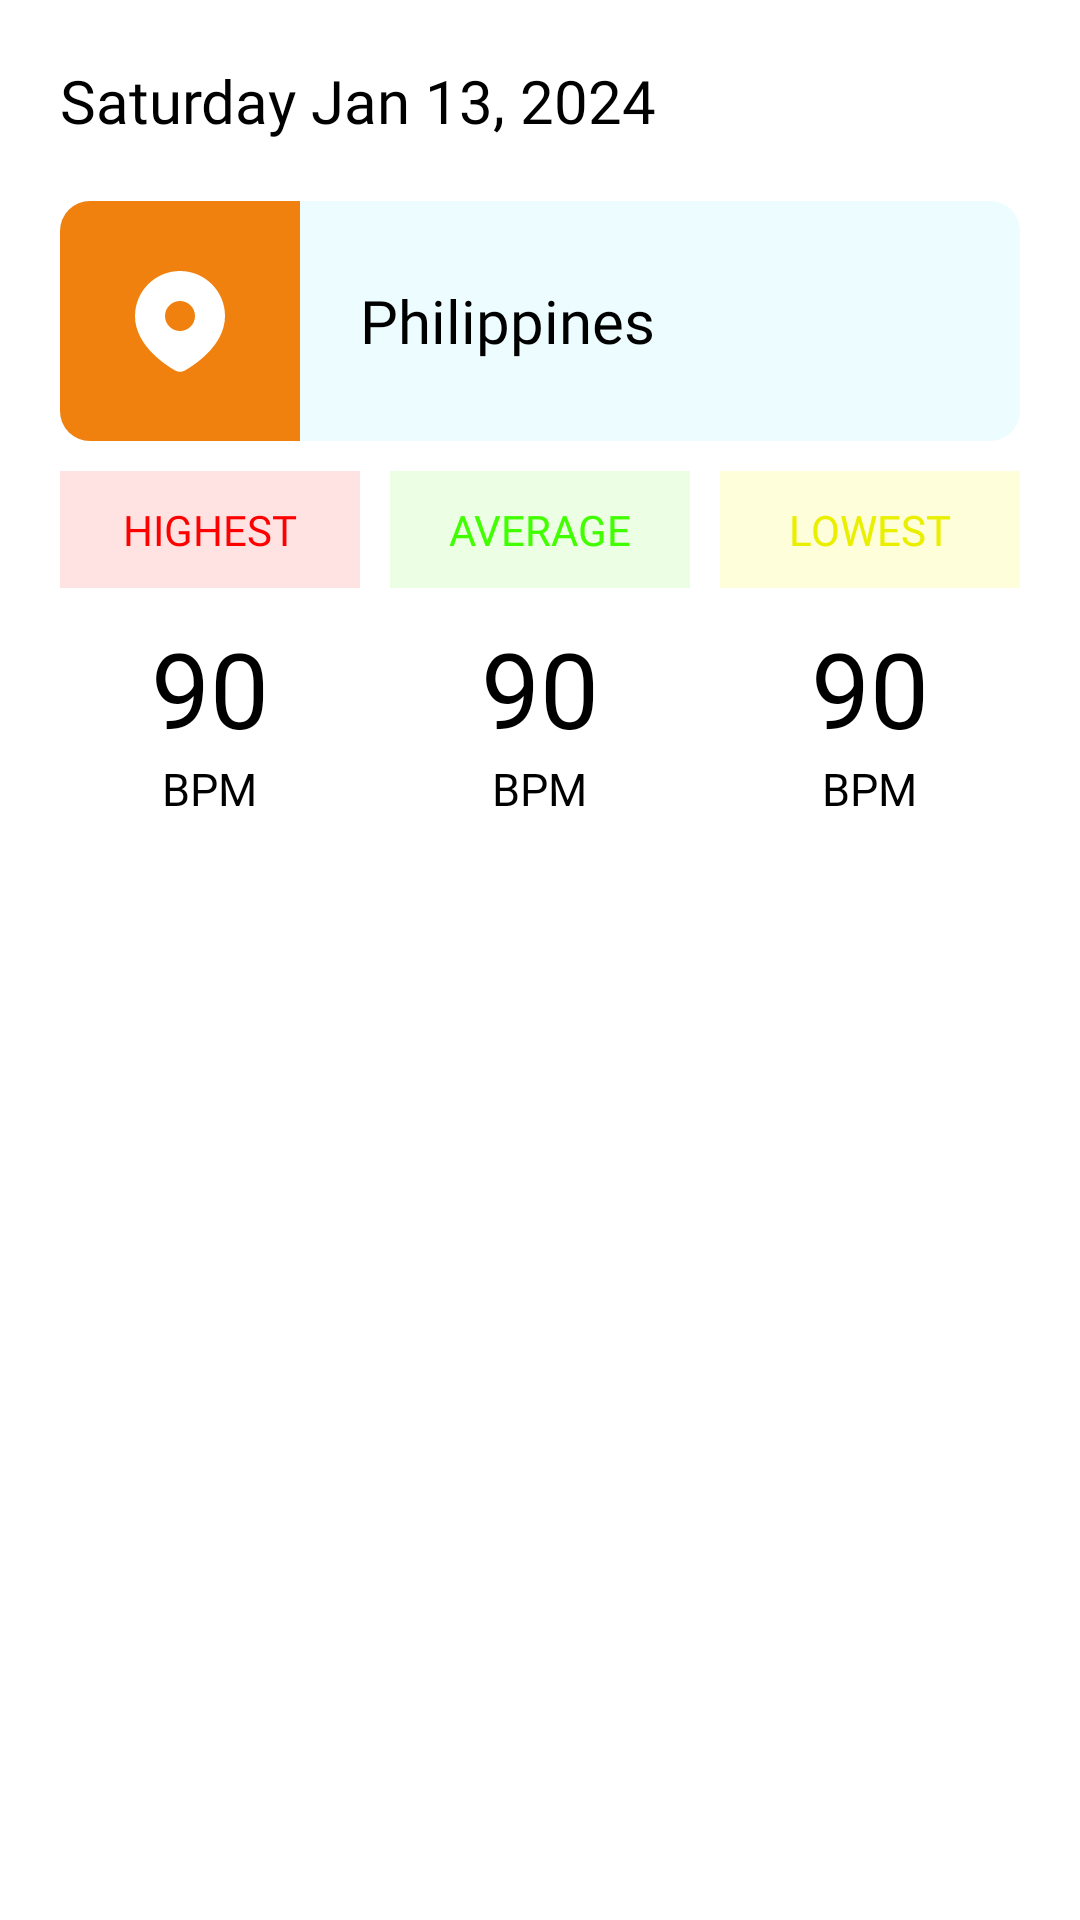

Screen size 1080px x 1920px. Icon name, then its center in pixels as [x,y]:
location: [180,321]
